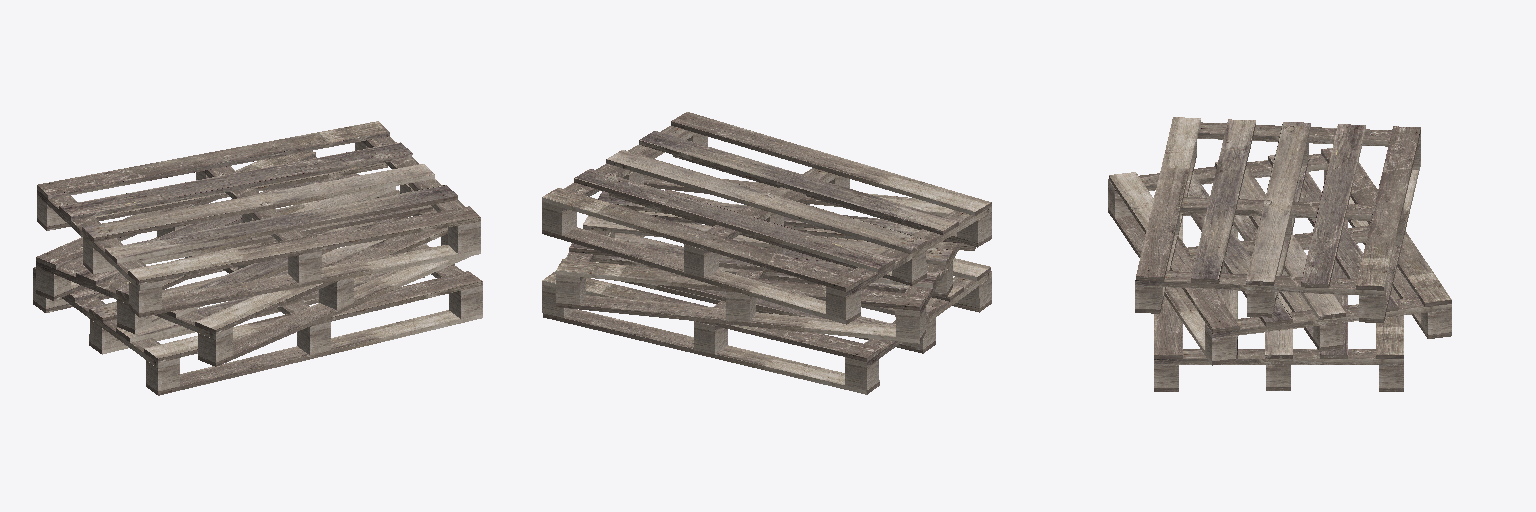
The picture shows the model from 3 angles: view 1: azimuth 30°, elevation 25°; view 2: azimuth 150°, elevation 25°; view 3: azimuth 270°, elevation 25°; orthographic projection.
Visible parts, largest first — view 1: pallet_obj.003; view 2: pallet_obj.003; view 3: pallet_obj.003.
Boxes of the visible parts, box(x1,y1,x2,y2) form: pallet_obj.003: box(33, 121, 482, 395); pallet_obj.003: box(542, 112, 991, 394); pallet_obj.003: box(1108, 117, 1451, 391).
Bounding box in the file's own units: 4.13 × 1.19 × 3.3.
Materials: 1 (1 with a texture image).